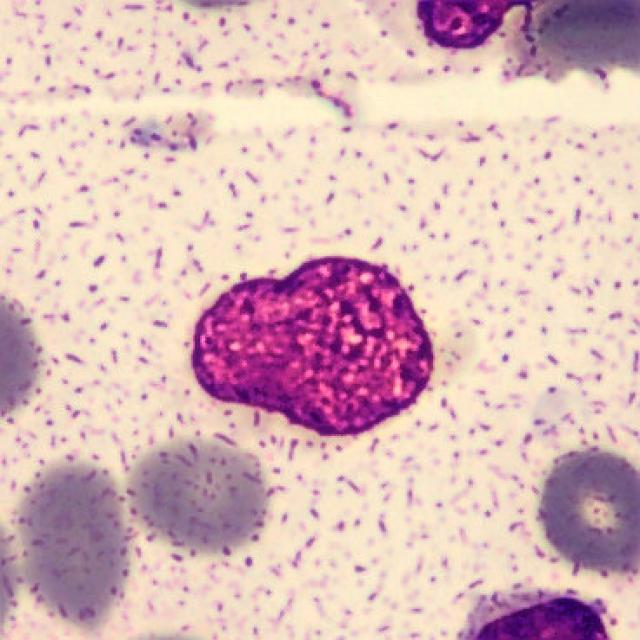Restos celulares: (190, 258, 435, 439)
